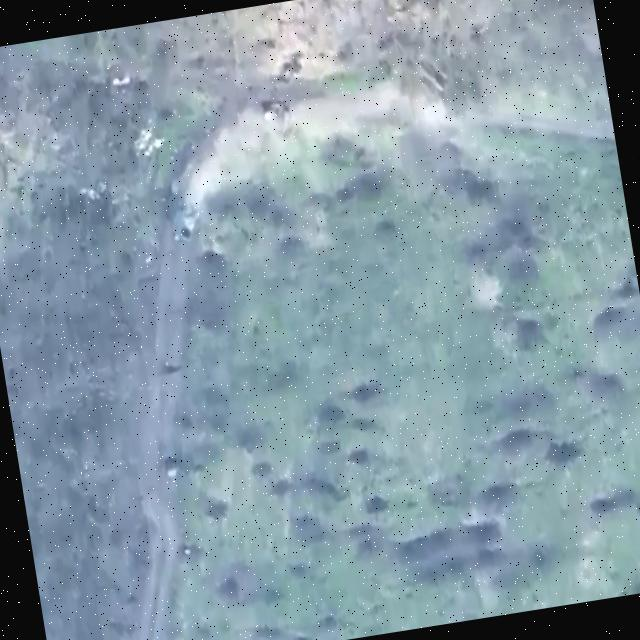APC: (164, 188, 207, 250)
Vehicle: (262, 96, 297, 136)
